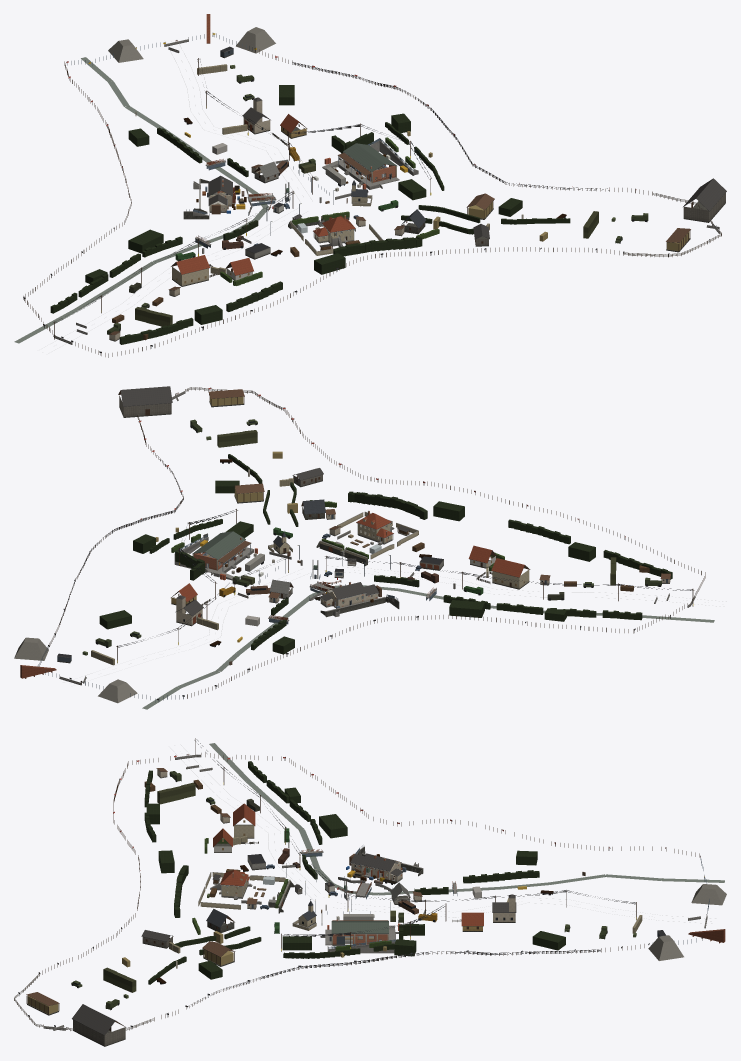
Rendered from kh_world.glb.
The picture shows the model from 3 angles, top to bottom: view 1: azimuth 30°, elevation 25°; view 2: azimuth 150°, elevation 25°; view 3: azimuth 270°, elevation 25°; orthographic projection.
Visible parts, largest first — view 1: veg_core_101, concrete_101, veg_core_1, veg_core_0, veg_core_100, gravel_heap_102, veg_core_102, wood_grey_200, water_1, plaster_cream_101, roof_corr_green_101, prop_paint_101 (+8 smaller); view 2: veg_core_101, veg_core_1, concrete_101, veg_core_0, veg_core_100, gravel_heap_102, plaster_cream_101, veg_core_102, stone_101, roof_corr_dark_200, wood_grey_200, prop_paint_101 (+9 smaller); view 3: veg_core_101, concrete_101, veg_core_1, veg_core_102, plaster_cream_101, veg_core_100, water_102, wood_grey_200, gravel_heap_102, water_1, veg_core_201, prop_paint_101 (+11 smaller).
Part boxes in pixels (x1,y1,x2,y2): veg_core_101: [196, 122, 480, 240]; concrete_101: [184, 140, 418, 251]; veg_core_1: [50, 229, 182, 313]; veg_core_0: [119, 281, 282, 344]; veg_core_100: [314, 218, 505, 274]; gravel_heap_102: [108, 27, 275, 62]; veg_core_102: [128, 85, 294, 160]; wood_grey_200: [623, 192, 725, 256]; water_1: [14, 245, 197, 343]; plaster_cream_101: [290, 185, 382, 255]; roof_corr_green_101: [343, 143, 396, 171]; prop_paint_101: [222, 147, 398, 249]; veg_core_101: [149, 490, 419, 626]; veg_core_1: [443, 595, 642, 621]; concrete_101: [174, 510, 418, 621]; veg_core_0: [508, 519, 672, 579]; veg_core_100: [259, 479, 464, 521]; gravel_heap_102: [14, 637, 137, 703]; plaster_cream_101: [268, 512, 418, 559]; veg_core_102: [99, 610, 294, 654]; stone_101: [234, 495, 443, 617]; roof_corr_dark_200: [120, 386, 172, 406]; wood_grey_200: [119, 387, 283, 432]; prop_paint_101: [219, 527, 438, 596]; veg_core_101: [197, 855, 469, 958]; concrete_101: [198, 846, 456, 953]; veg_core_1: [248, 761, 347, 844]; veg_core_102: [469, 850, 565, 950]; plaster_cream_101: [198, 872, 316, 930]; veg_core_100: [158, 850, 197, 957]; water_102: [457, 874, 724, 891]; wood_grey_200: [14, 974, 153, 1045]; gravel_heap_102: [648, 884, 726, 960]; water_1: [209, 743, 313, 851]; veg_core_201: [198, 939, 416, 979]; prop_paint_101: [260, 848, 437, 933].
Bounding box in the file's own units: 339 × 20.69 × 317.
64 materials, 51 textured.
